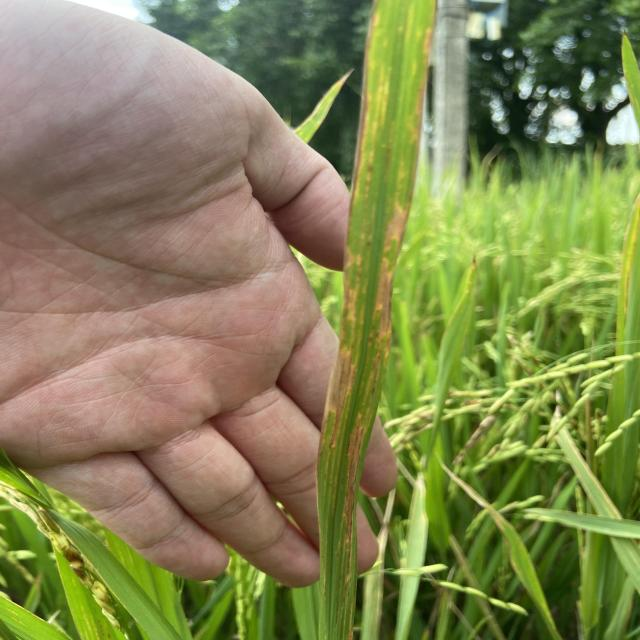Dom soc vi khuan: (335, 352, 381, 625), (348, 602, 354, 640)
